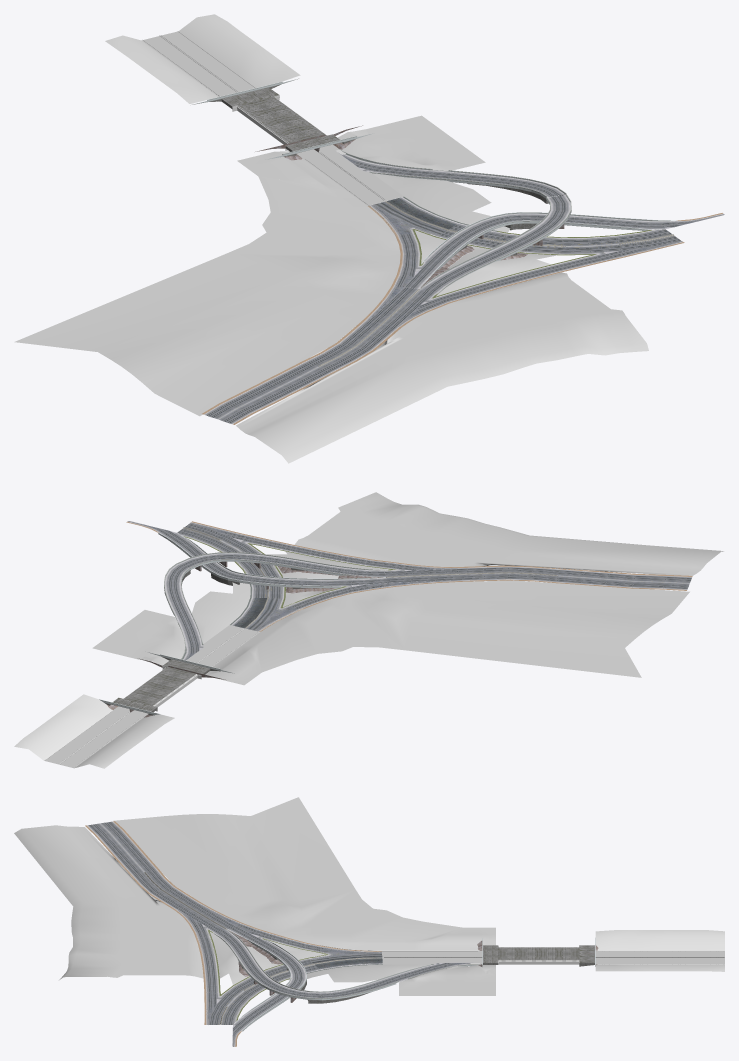
File: endapl.fbx
3 views of the same model, one above another, from view 1: azimuth 30°, elevation 25°; view 2: azimuth 150°, elevation 25°; view 3: azimuth 270°, elevation 25° (orthographic). The views are drawn at different scales.
Parts seen in each view (by area): view 1: vegasSedge22, vgsSairportland13.001, VegasSroad017.002, vgsSspagjun06b, vegasNroad31, vegasSedge29, vegasSedge29b, vgsSspagjun05, vgsSspagjun02, vgsSspagjun03, vgsSspagjun10, vgsSspagjun06 (+2 smaller); view 2: vegasSedge22, vgsSairportland13.001, VegasSroad017.002, vgsSspagjun06b, vegasNroad31, vegasSedge29, vegasSedge29b, vgsSspagjun02, vgsSspagjun03, vgsSspagjun05, vgsSspagjun09, vgsSspagjun06 (+2 smaller); view 3: vegasSedge22, vgsSairportland13.001, VegasSroad017.002, vgsSspagjun06b, vegasNroad31, vegasSedge29, vegasSedge29b, vgsSspagjun02, vgsSspagjun05, vgsSspagjun03, vgsSspagjun06, vgsSspagjun10 (+2 smaller).
Boxes of the visible parts, x1,y1,x2,y2 form: vegasSedge22: (14, 115, 648, 463); vgsSairportland13.001: (105, 14, 300, 103); VegasSroad017.002: (141, 31, 403, 205); vgsSspagjun06b: (363, 196, 565, 320); vegasNroad31: (192, 78, 372, 160); vegasSedge29: (202, 352, 357, 424); vegasSedge29b: (320, 287, 433, 360); vgsSspagjun05: (335, 149, 566, 203); vgsSspagjun02: (397, 241, 684, 327); vgsSspagjun03: (405, 213, 515, 289); vgsSspagjun10: (506, 212, 724, 230); vgsSspagjun06: (558, 229, 680, 255); vegasSedge22: (92, 492, 723, 685); vgsSairportland13.001: (14, 694, 174, 768); VegasSroad017.002: (44, 625, 259, 768); vgsSspagjun06b: (230, 561, 460, 631); vegasNroad31: (99, 652, 234, 717); vegasSedge29: (532, 566, 692, 590); vegasSedge29b: (385, 565, 533, 582); vgsSspagjun02: (190, 521, 457, 570); vgsSspagjun03: (228, 572, 387, 593); vgsSspagjun05: (164, 563, 203, 660); vgsSspagjun09: (276, 556, 403, 577); vgsSspagjun06: (177, 523, 264, 554); vegasSedge22: (14, 797, 495, 995); vgsSairportland13.001: (595, 930, 724, 971); VegasSroad017.002: (382, 951, 724, 964); vgsSspagjun06b: (198, 902, 382, 992); vegasNroad31: (477, 938, 598, 966); vegasSedge29: (85, 821, 165, 884); vegasSedge29b: (139, 878, 235, 932); vgsSspagjun02: (174, 909, 221, 1024); vgsSspagjun05: (307, 962, 479, 1003); vgsSspagjun03: (227, 926, 306, 979); vgsSspagjun06: (208, 985, 259, 1024); vgsSspagjun10: (232, 978, 306, 1046).
Bounding box in the file's own units: 72161 × 1814 × 87810.
Materials: 73 (66 with a texture image).
